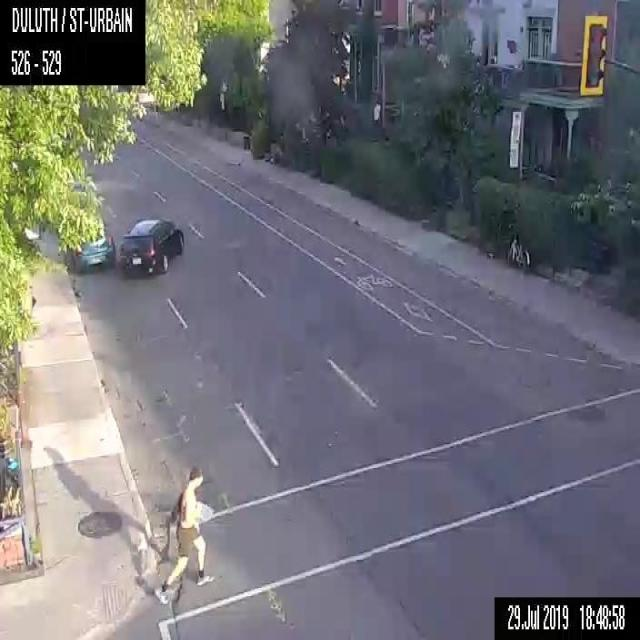pedestrian: (151, 467, 214, 604)
vehicle: (121, 214, 184, 278), (69, 233, 117, 268)
